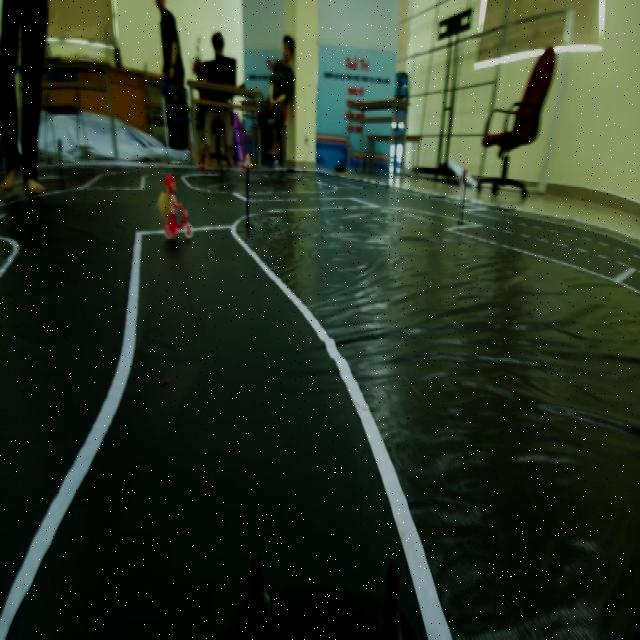pedestrian: (150, 169, 204, 256)
